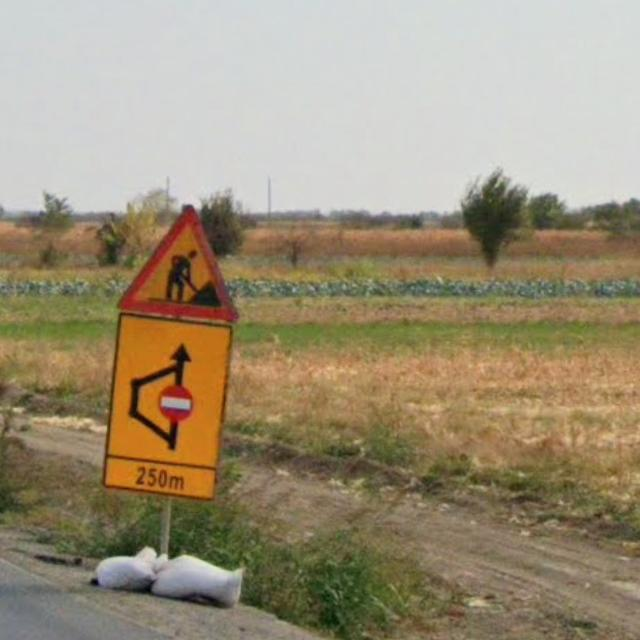forb_ahead: (158, 384, 194, 422)
warn_construction: (116, 206, 240, 324)
